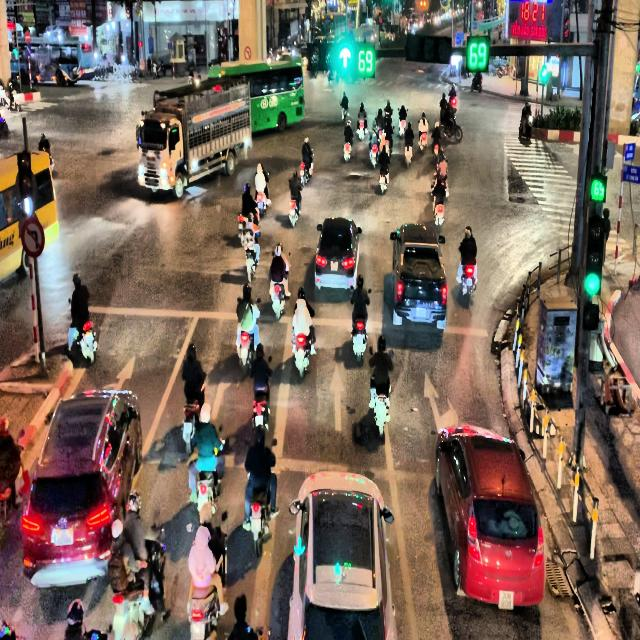lisence_plate: (50, 525, 74, 546), (498, 588, 514, 610), (413, 304, 428, 322), (327, 257, 340, 271)
